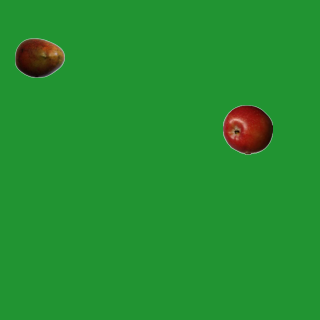Apple Braeburn: (222, 104, 272, 154)
Mango Red: (14, 32, 64, 82)
